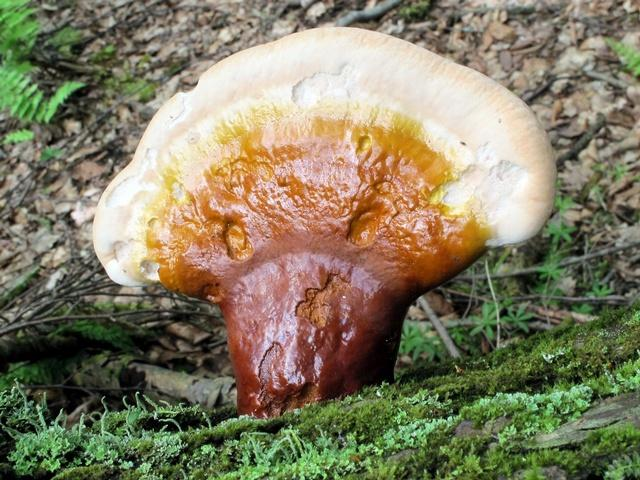Non-edible Mushroom: (90, 24, 558, 420)
